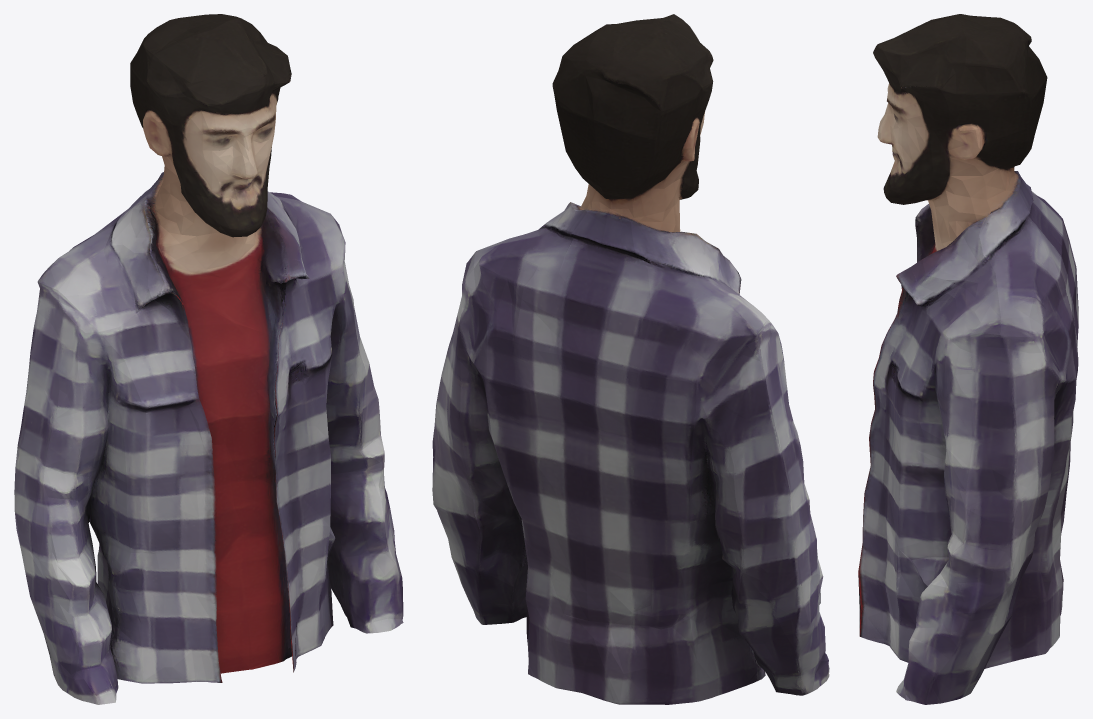
The model's file is step_2.glb.
3 views of the same model, side by side, from view 1: azimuth 30°, elevation 25°; view 2: azimuth 150°, elevation 25°; view 3: azimuth 270°, elevation 25° (orthographic). The views are drawn at different scales.
Parts seen in each view (by area): view 1: geometry_0; view 2: geometry_0; view 3: geometry_0.
Boxes of the visible parts, box(x1,y1,x2,y2) form: geometry_0: box(14, 14, 403, 704); geometry_0: box(432, 14, 829, 704); geometry_0: box(858, 14, 1078, 704).
Bounding box in the file's own units: 0.5031 × 0.8284 × 0.2748.
Materials: 1 (1 with a texture image).
